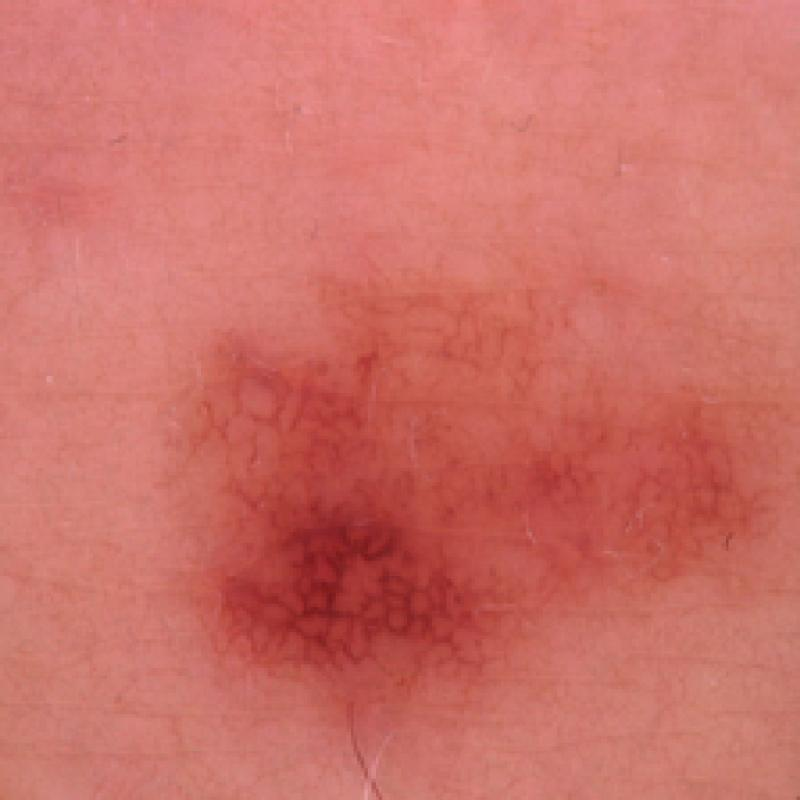benign: (153, 258, 774, 717)
